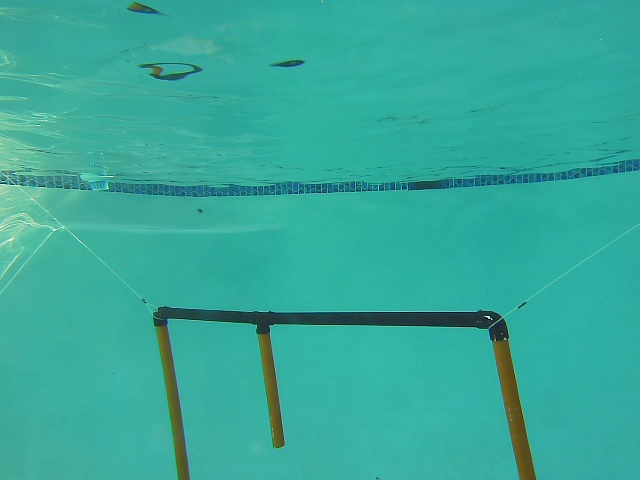Gate: (149, 320, 195, 480), (488, 333, 538, 480), (253, 325, 286, 448)
